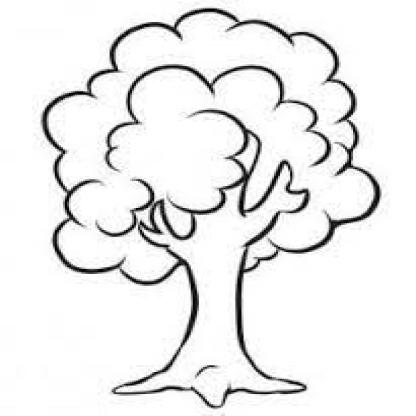crown_cloud: (42, 11, 382, 285)
root_only: (112, 360, 307, 410)
trunk_reflex: (181, 273, 250, 359)
